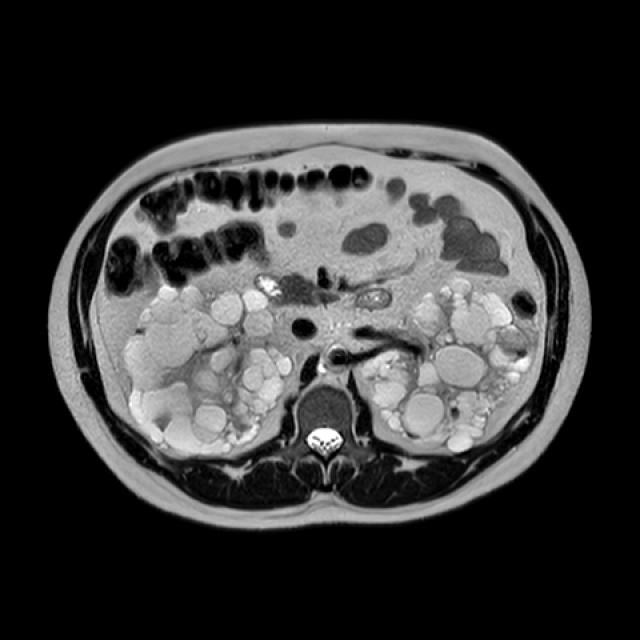sag: (123, 285, 293, 458)
sol: (363, 278, 533, 453)
